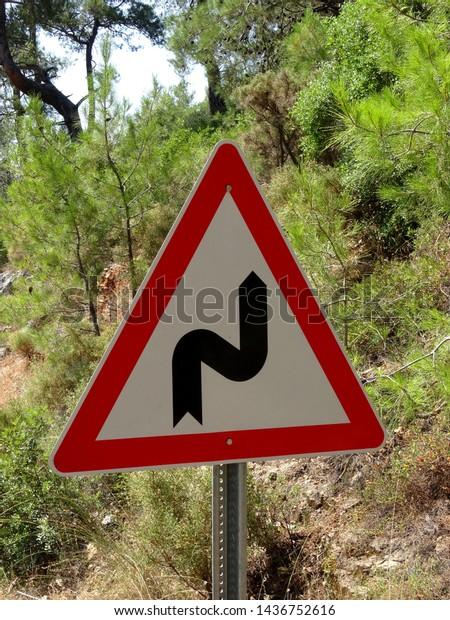Right Reverse Bend: (23, 146, 394, 491)
